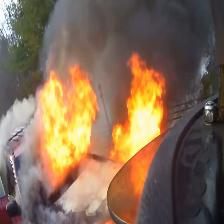fire: (107, 49, 171, 171), (36, 66, 98, 180)
